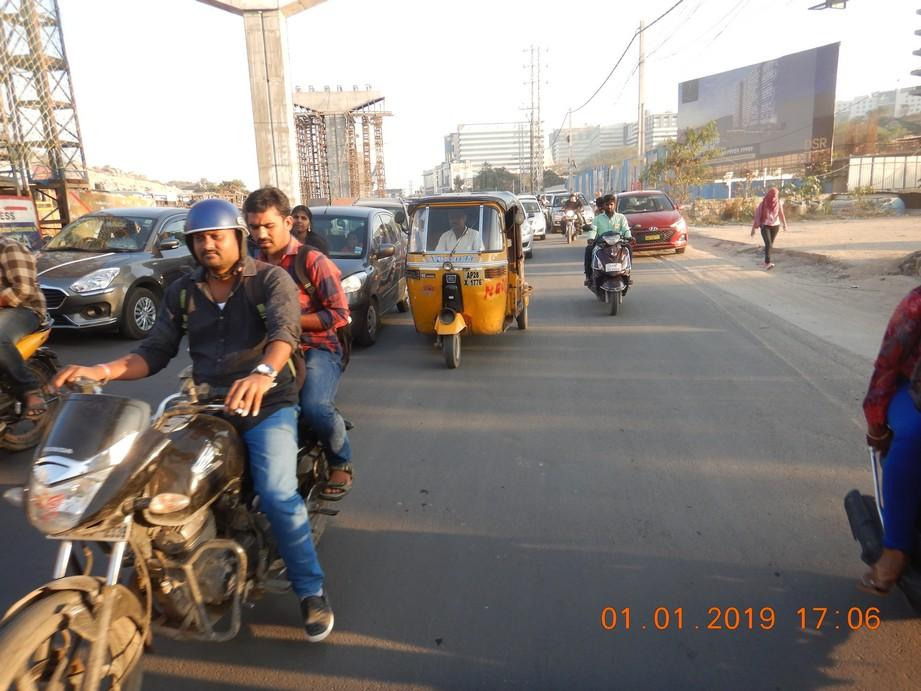plate: (605, 262, 623, 272)
